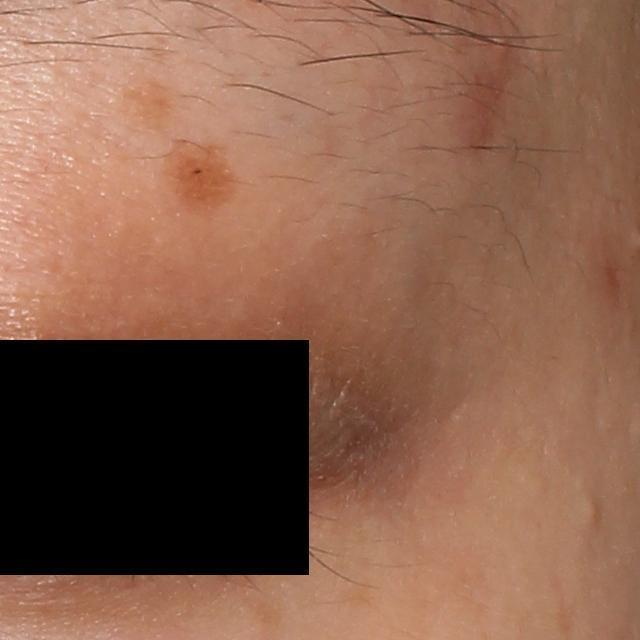comedo: (581, 498, 601, 525)
melasma: (156, 144, 249, 207), (122, 73, 176, 125)
